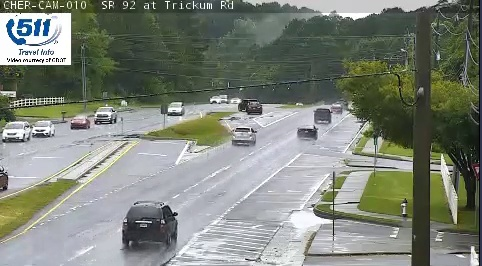car: (122, 202, 178, 240), (232, 127, 256, 144), (296, 126, 317, 140), (313, 109, 330, 121)
